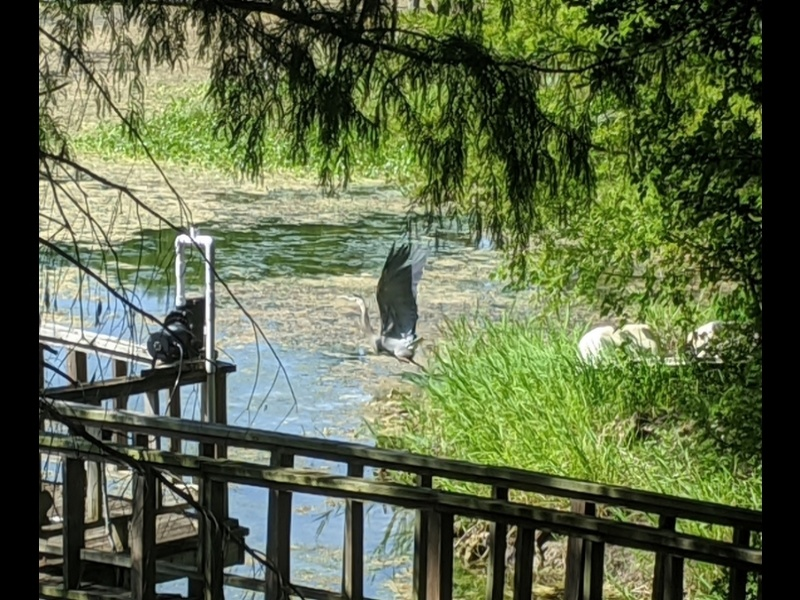heron: (341, 244, 428, 378)
